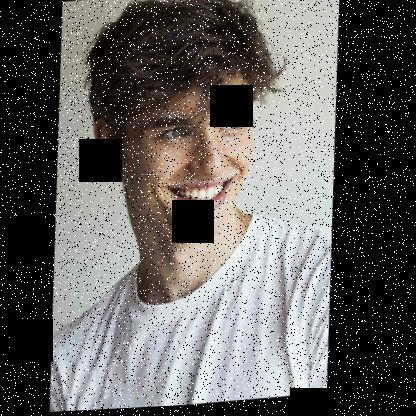Male: (88, 70, 263, 245)
